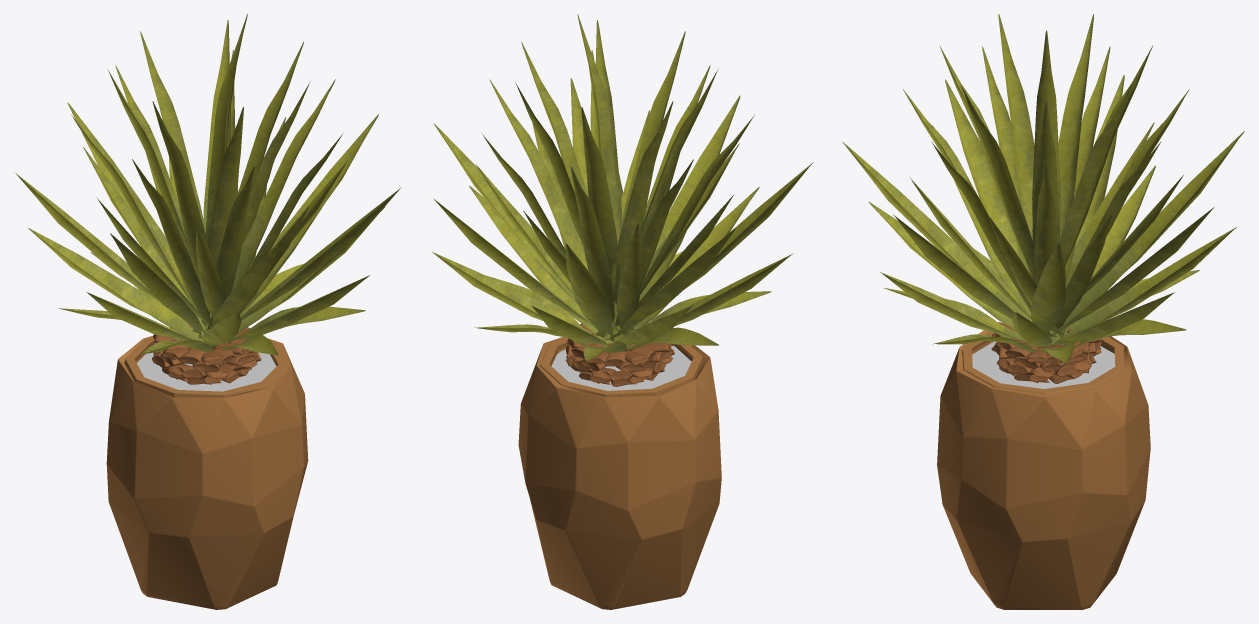
Rendered from PlantSmall.fbx.
3 renders of one model, left to right at view 1: azimuth 30°, elevation 25°; view 2: azimuth 150°, elevation 25°; view 3: azimuth 270°, elevation 25°, orthographic. The views are drawn at different scales.
Parts seen in each view (by area): view 1: PlantSmall; view 2: PlantSmall; view 3: PlantSmall.
Boxes of the visible parts, x1,y1,x2,y2 form: PlantSmall: [15, 14, 401, 609]; PlantSmall: [432, 14, 813, 609]; PlantSmall: [842, 14, 1244, 609].
Size of the model in its own units: 15.2 by 24.23 by 15.38.
